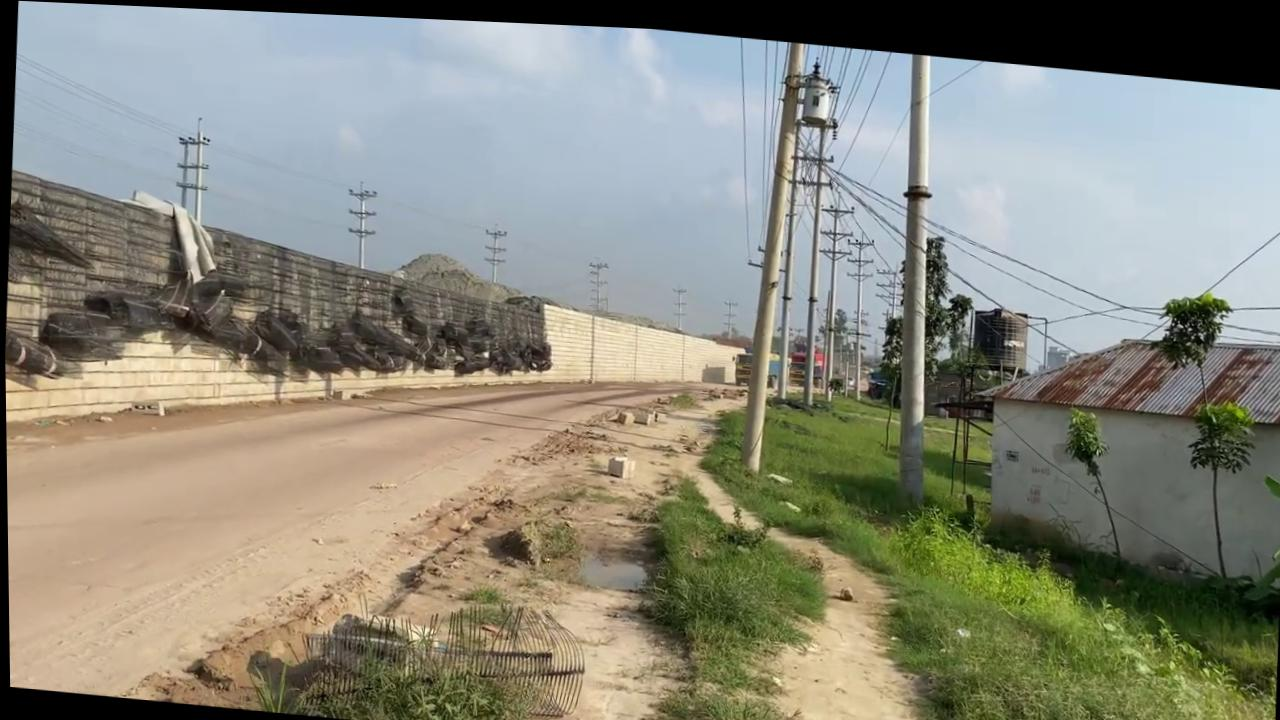Muddy road: (4, 312, 741, 720)
Obstacle: (296, 578, 587, 719), (604, 448, 634, 473)
Pole: (732, 31, 811, 472), (885, 44, 945, 502), (785, 53, 841, 399)
Traffic-sign: (872, 219, 976, 404), (1177, 383, 1258, 569)
Tree: (729, 337, 823, 386)
Upstairs: (2, 167, 752, 486)
